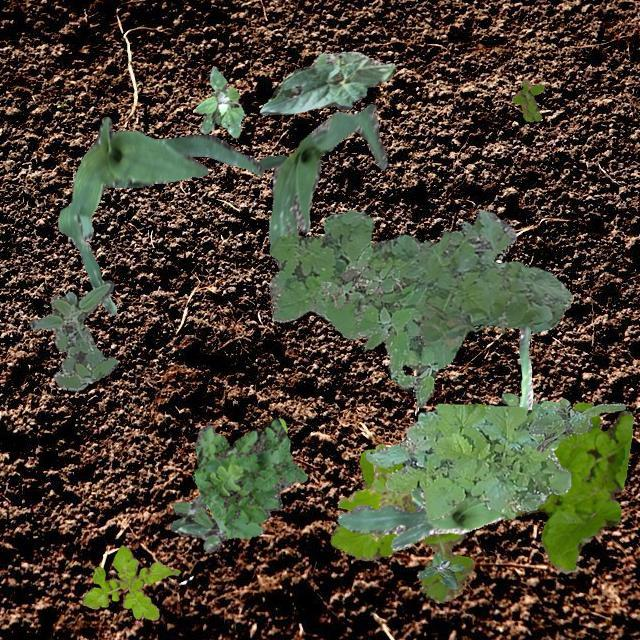crop: (336, 324, 546, 550), (56, 116, 264, 314), (258, 102, 386, 268), (258, 49, 394, 114)
weed: (328, 402, 632, 602), (268, 210, 572, 368), (366, 402, 570, 518), (319, 243, 436, 407), (192, 418, 306, 538), (30, 280, 116, 390), (336, 442, 414, 540), (82, 544, 180, 618), (528, 398, 624, 452), (499, 392, 558, 462), (194, 66, 243, 136), (170, 494, 227, 552), (416, 550, 464, 588), (511, 78, 544, 120), (537, 399, 559, 406)
